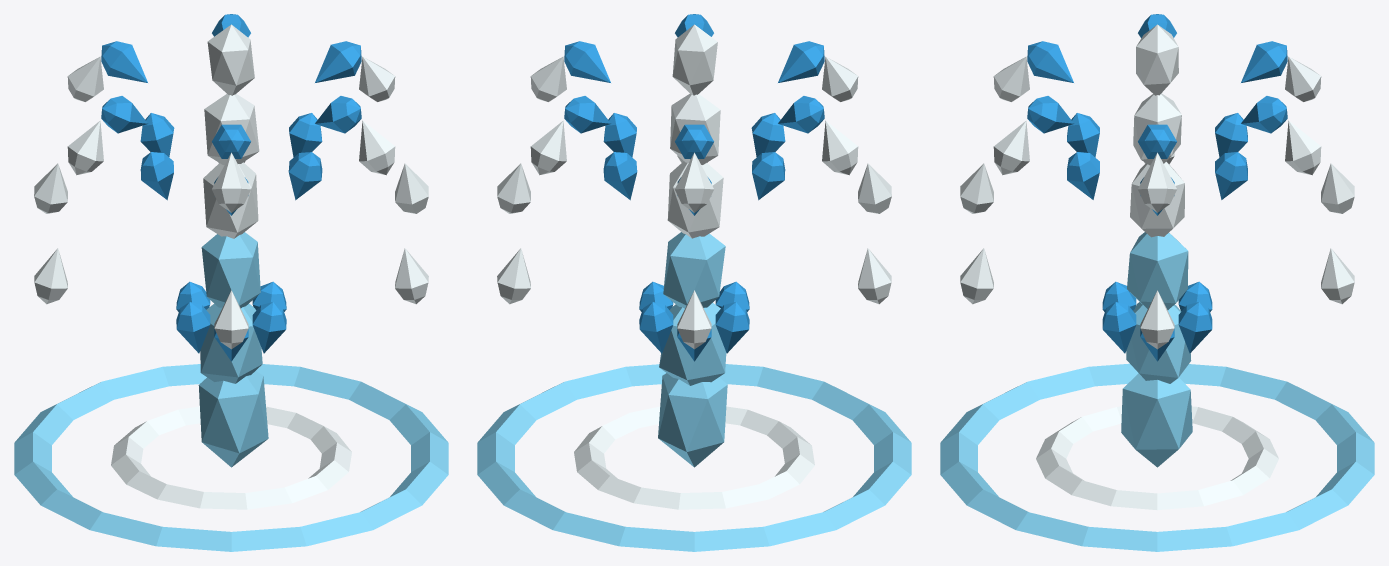
File: fx_fountain_park_jets.glb
3 views of the same model, side by side, from view 1: azimuth 30°, elevation 25°; view 2: azimuth 150°, elevation 25°; view 3: azimuth 270°, elevation 25° (orthographic).
Visible parts, largest first — view 1: fx_fountain_park_jets_water_light, fx_fountain_park_jets_water_foam, fx_fountain_park_jets_water_azure; view 2: fx_fountain_park_jets_water_light, fx_fountain_park_jets_water_foam, fx_fountain_park_jets_water_azure; view 3: fx_fountain_park_jets_water_light, fx_fountain_park_jets_water_foam, fx_fountain_park_jets_water_azure.
Boxes of the visible parts, x1,y1,x2,y2 form: fx_fountain_park_jets_water_light: [14, 232, 448, 551]; fx_fountain_park_jets_water_foam: [34, 24, 428, 509]; fx_fountain_park_jets_water_azure: [101, 14, 361, 361]; fx_fountain_park_jets_water_light: [477, 232, 911, 551]; fx_fountain_park_jets_water_foam: [497, 24, 891, 509]; fx_fountain_park_jets_water_azure: [564, 14, 824, 361]; fx_fountain_park_jets_water_light: [940, 232, 1374, 551]; fx_fountain_park_jets_water_foam: [960, 24, 1354, 510]; fx_fountain_park_jets_water_azure: [1027, 14, 1287, 361].
Size of the model in its own units: 1.2 by 1.29 by 1.14.
